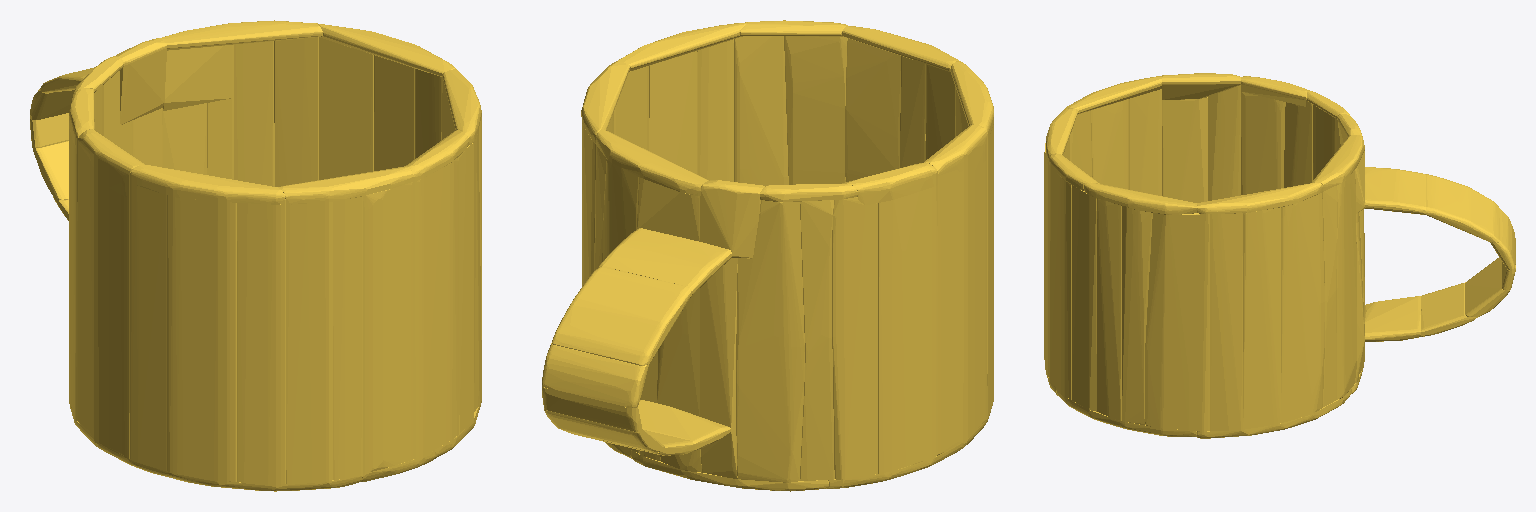
robot.urdf — 857.urdf:
<?xml version="1.0" ?>
<robot name="857.urdf">
	<link name="baseLink">
		<inertial>
			<origin rpy="0 0 0" xyz="0 0 0"/>
				<mass value="0.1"/>
				<inertia ixx="6e-5" ixy="0" ixz="0" iyy="6e-5" iyz="0" izz="6e-5"/>
		</inertial>
		<visual>
			<origin rpy="0 0 0" xyz="0 0 0"/>
			<geometry>
				<mesh filename="24_decom_wt.obj" scale="1.09 1.09 1.11"/>
			</geometry>
			<material name="yellow">
				<color rgba="0.98 0.84 0.35 1"/>
			</material>
		</visual>
		<collision>
			<origin rpy="0 0 0" xyz="0 0 0"/>
			<geometry>
				<mesh filename="24_decom_wt.obj" scale="1.09 1.09 1.11"/>
			</geometry>
		</collision>
	</link>
</robot>

--- Render facts (derived) ---
3 views of the same robot in one strip: view 1: azimuth 30°, elevation 25°; view 2: azimuth 150°, elevation 25°; view 3: azimuth 270°, elevation 25° (orthographic).
Robot: 857.urdf — 1 links, 0 joints (none); root link baseLink; default pose: every joint at zero.
Links seen in each view (by area): view 1: baseLink; view 2: baseLink; view 3: baseLink.
Link boxes in pixels (x1,y1,x2,y2): baseLink: [30, 20, 481, 491]; baseLink: [542, 20, 993, 491]; baseLink: [1044, 73, 1515, 438].
Size in the robot's own frame: 0.1362 by 0.2003 by 0.1098 metres.
1 mesh visuals loaded from 1 distinct referenced files (1 OBJ).